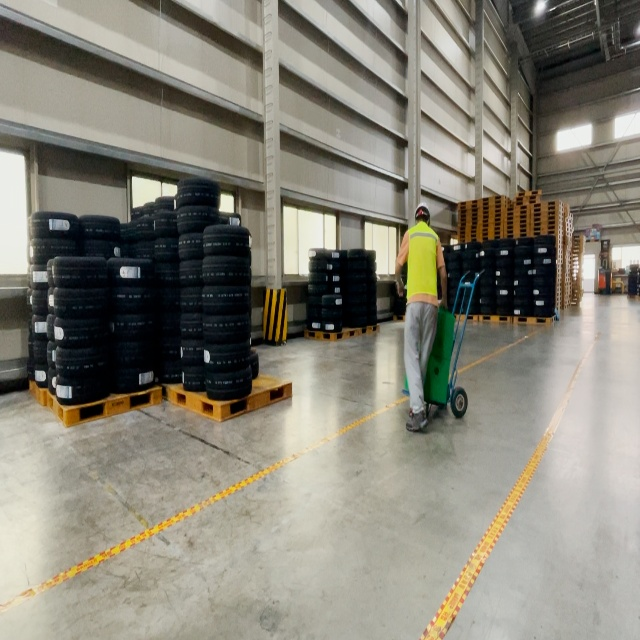Worker: (395, 202, 449, 433)
